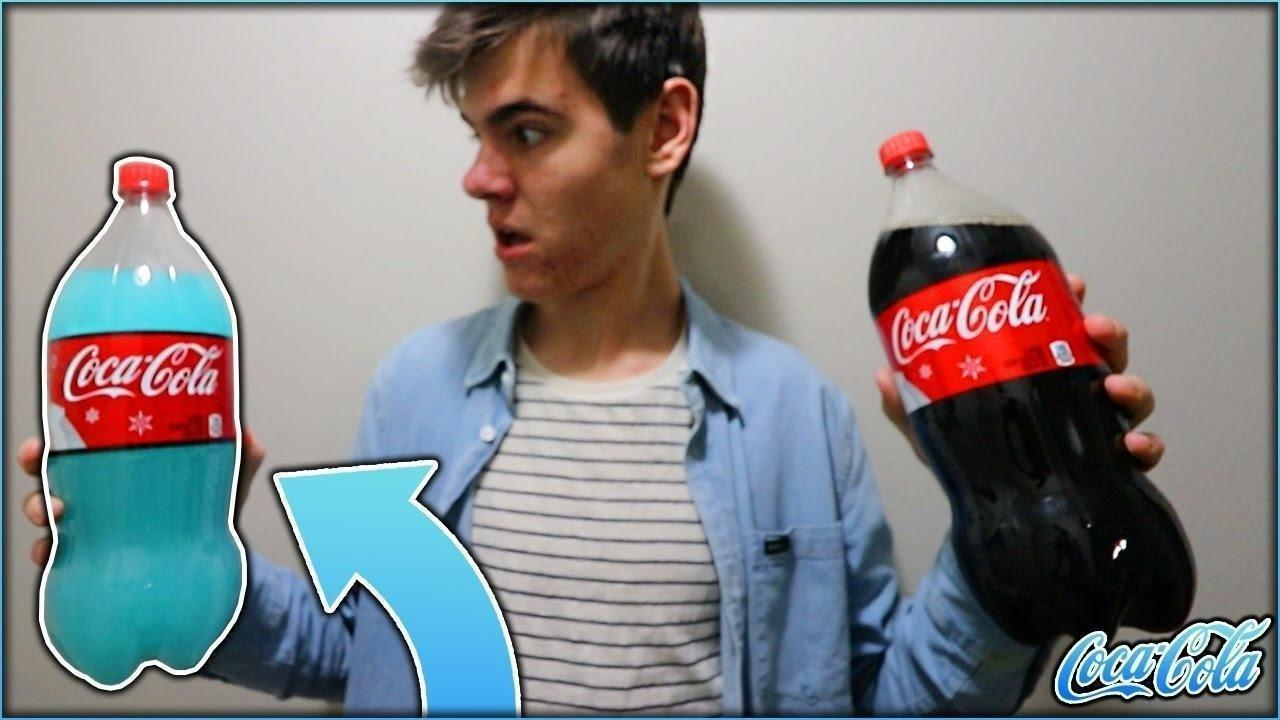bottle-plastic: (864, 127, 1196, 645), (35, 150, 249, 692)
